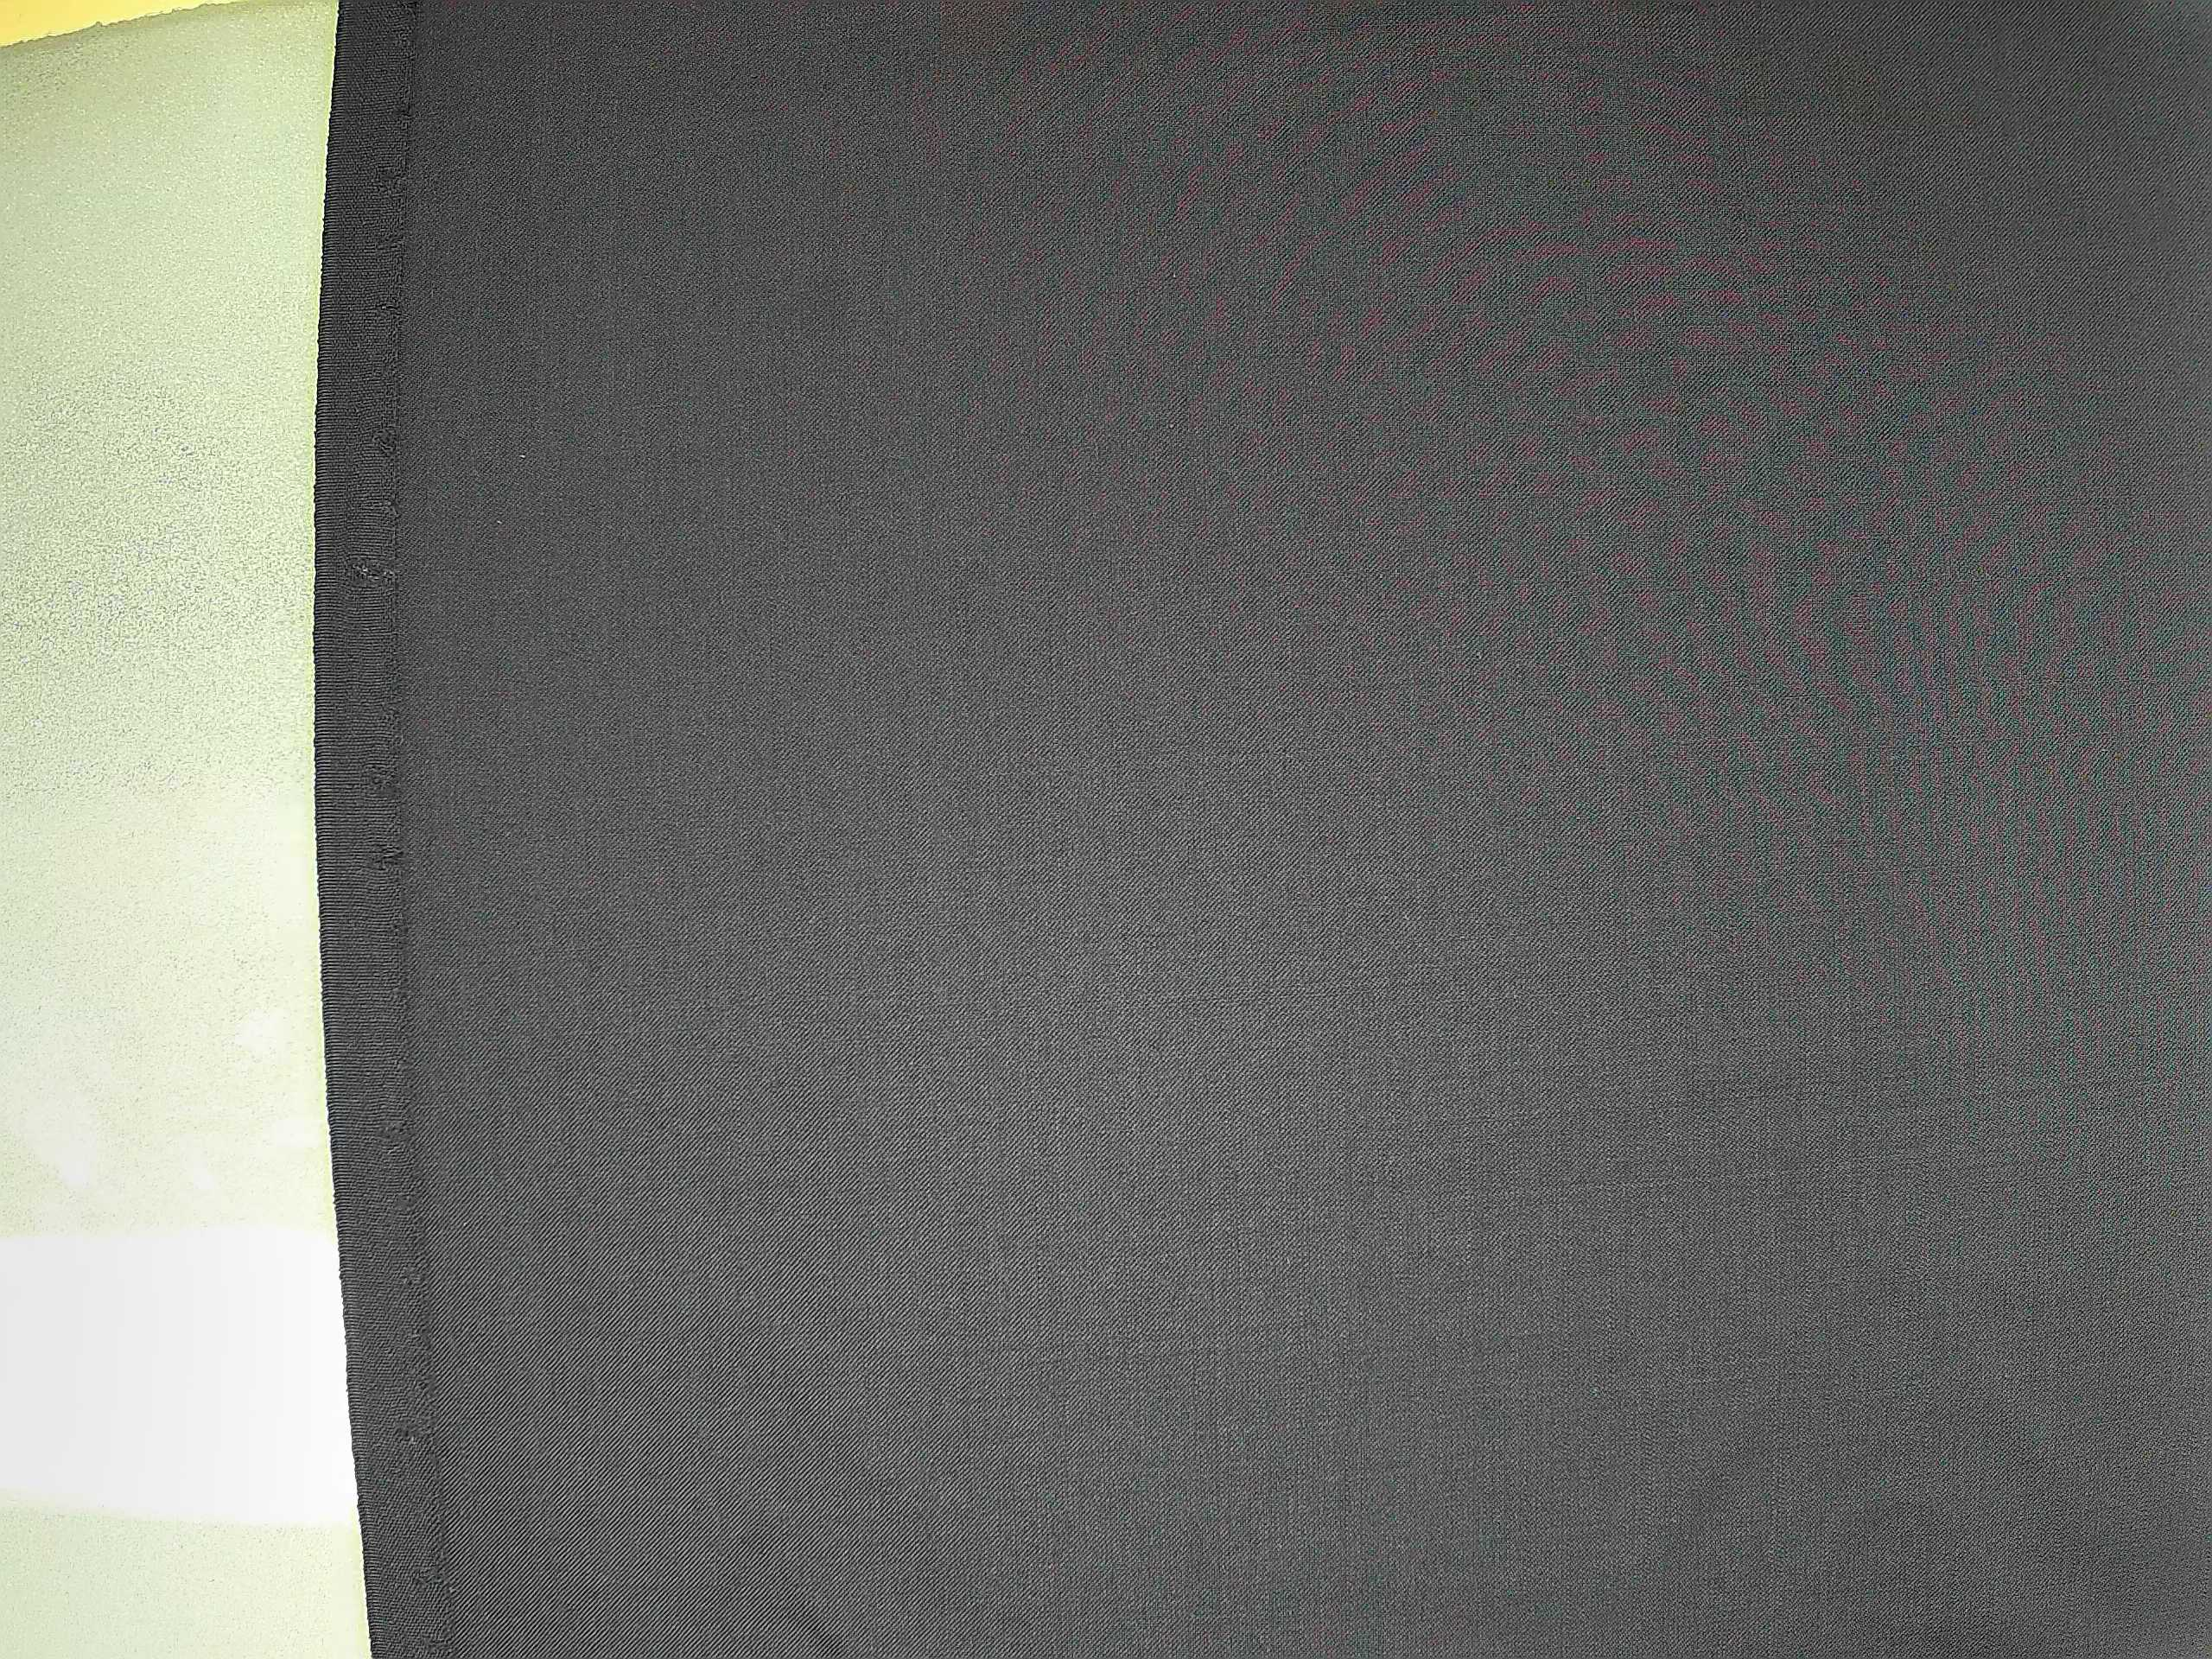puncture-hole: (348, 94, 423, 1159)
